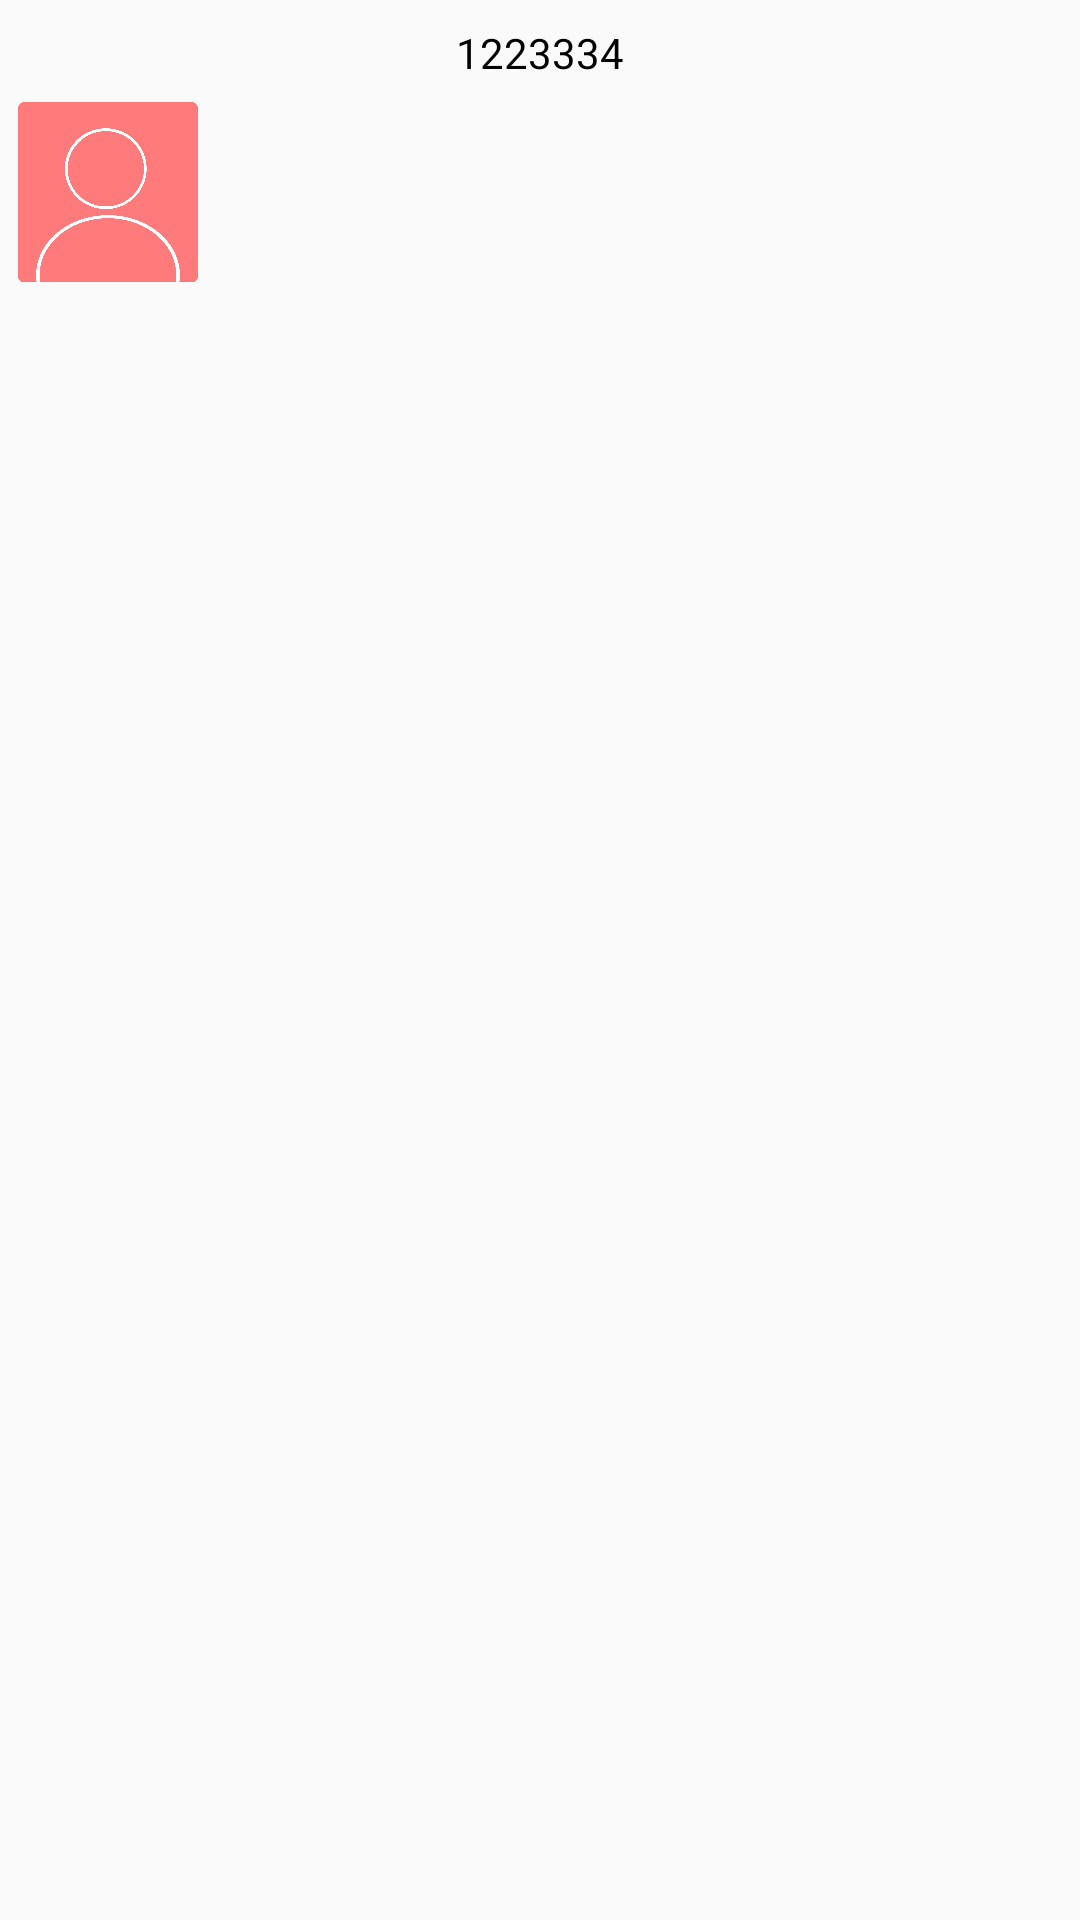

Icons on this 1080px×1920px Android screen, each with its box as (x1, y1, x2, y2):
photo: (18, 102, 198, 282)
